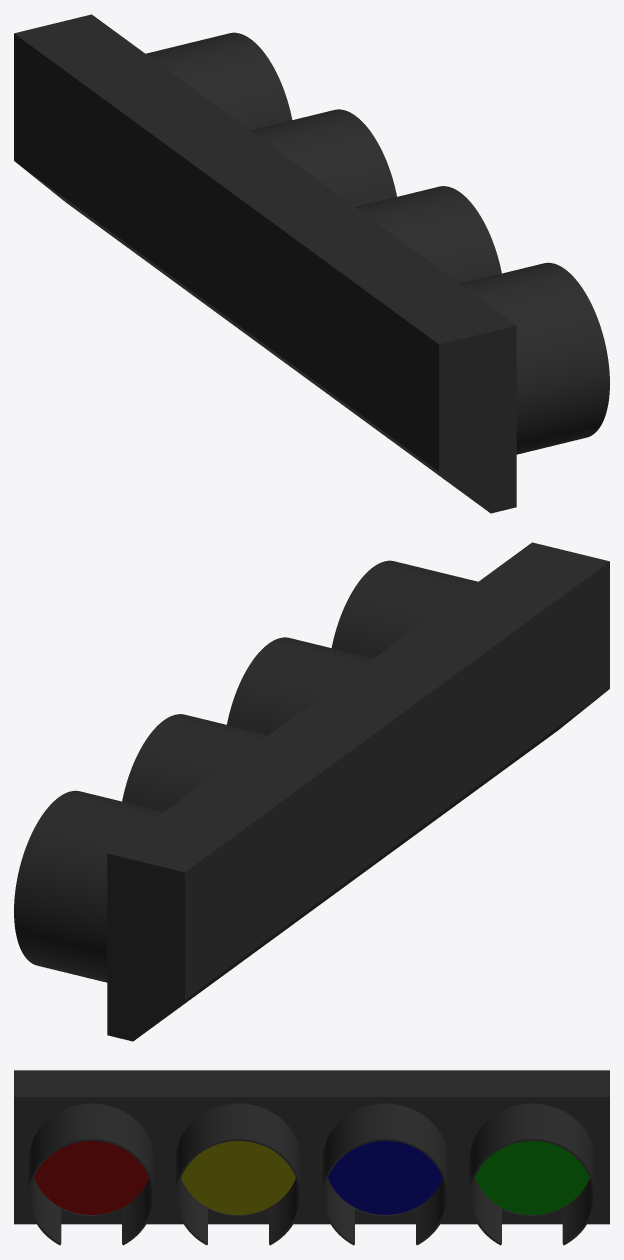
The model's file is RoadTFLight_3type.FBX.
The picture shows the model from 3 angles, top to bottom: view 1: azimuth 30°, elevation 25°; view 2: azimuth 150°, elevation 25°; view 3: azimuth 270°, elevation 25°; orthographic projection. The views are drawn at different scales.
Visible parts, largest first — view 1: RoadTFLight_3type; view 2: RoadTFLight_3type; view 3: RoadTFLight_3type.
Boxes of the visible parts, box(x1,y1,x2,y2) form: RoadTFLight_3type: box(14, 14, 609, 513); RoadTFLight_3type: box(14, 542, 609, 1041); RoadTFLight_3type: box(14, 1070, 609, 1245).
Size of the model in its own units: 35 by 33.5 by 142.
